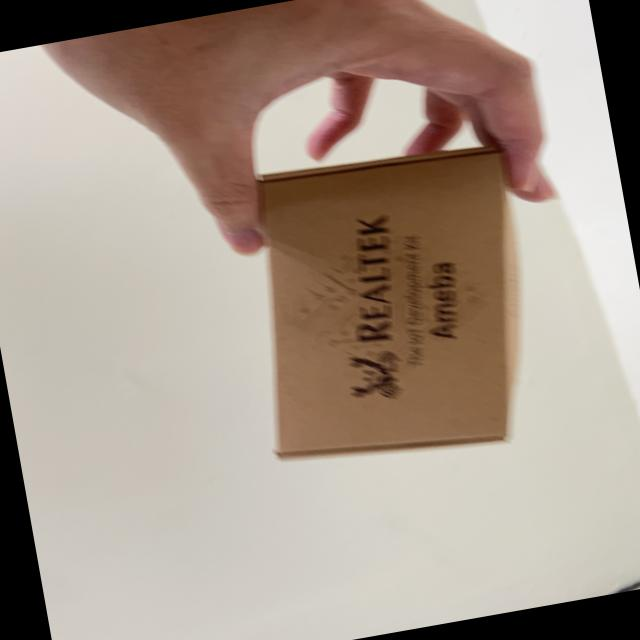box: (211, 120, 582, 488)
